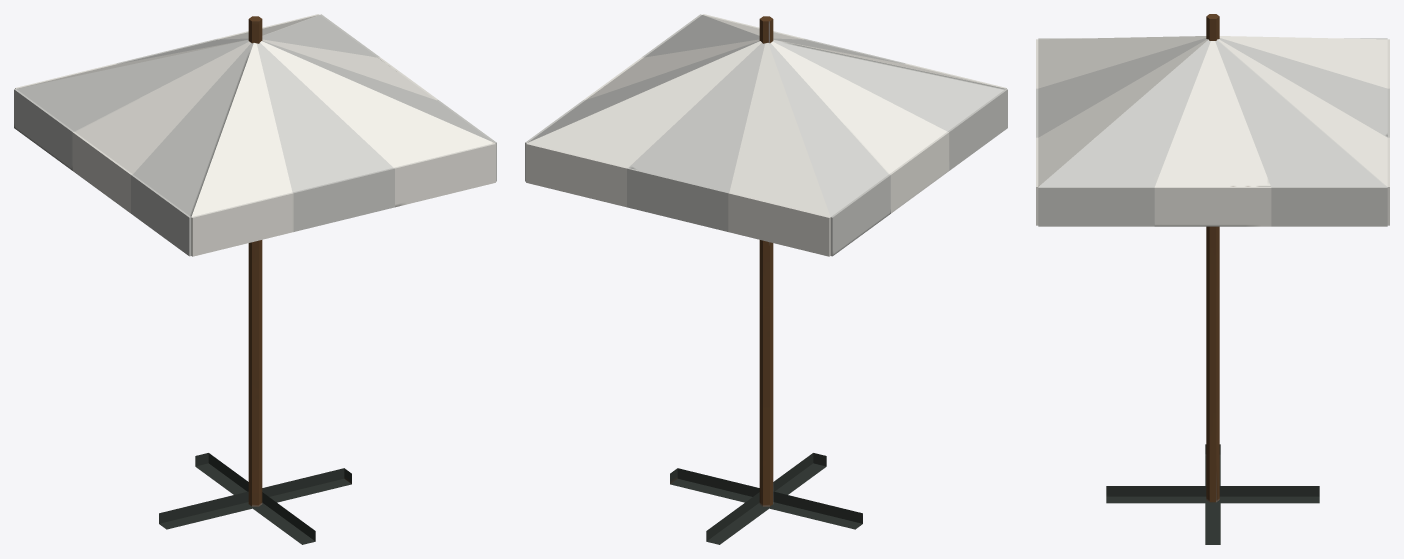
File: slunecnik_ctverec_742f414c.glb
3 renders of one model, left to right at view 1: azimuth 30°, elevation 25°; view 2: azimuth 150°, elevation 25°; view 3: azimuth 270°, elevation 25°, orthographic.
Parts seen in each view (by area): view 1: dum; view 2: dum; view 3: dum.
Boxes of the visible parts, x1,y1,x2,y2 form: dum: (14,14,496,544); dum: (525,14,1007,544); dum: (1036,14,1389,544).
Size of the model in its own units: 1.82 by 2.74 by 1.82.
1 material, 1 textured.
